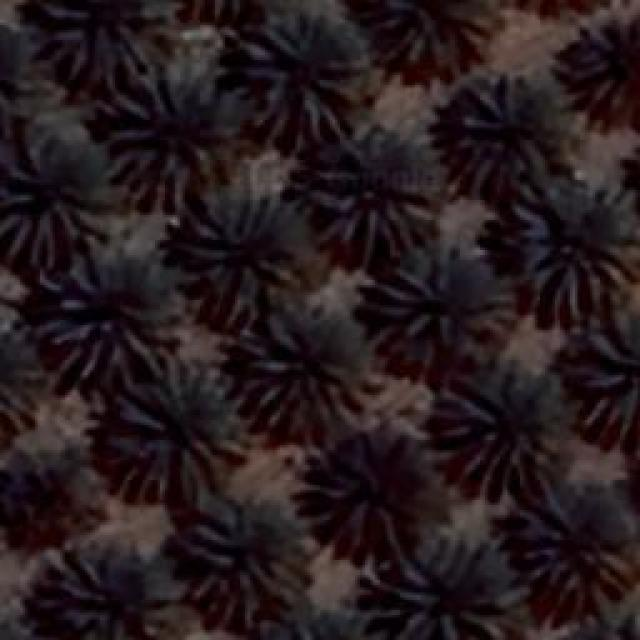PalmTree: (107, 360, 250, 502), (103, 60, 230, 210), (507, 175, 635, 320), (39, 248, 172, 382), (242, 15, 370, 150), (180, 490, 312, 620), (370, 240, 515, 358), (304, 132, 438, 258), (240, 305, 365, 430), (438, 362, 560, 490), (182, 192, 296, 326), (514, 480, 628, 598), (320, 426, 432, 546), (0, 138, 100, 268), (368, 540, 502, 635), (30, 555, 178, 640), (448, 72, 550, 190), (0, 447, 100, 545), (46, 1, 166, 78), (380, 0, 508, 65), (578, 312, 638, 446), (560, 10, 638, 108), (0, 331, 45, 439), (0, 30, 47, 123), (164, 0, 278, 27), (260, 613, 374, 640), (577, 597, 640, 640), (497, 0, 608, 18)
